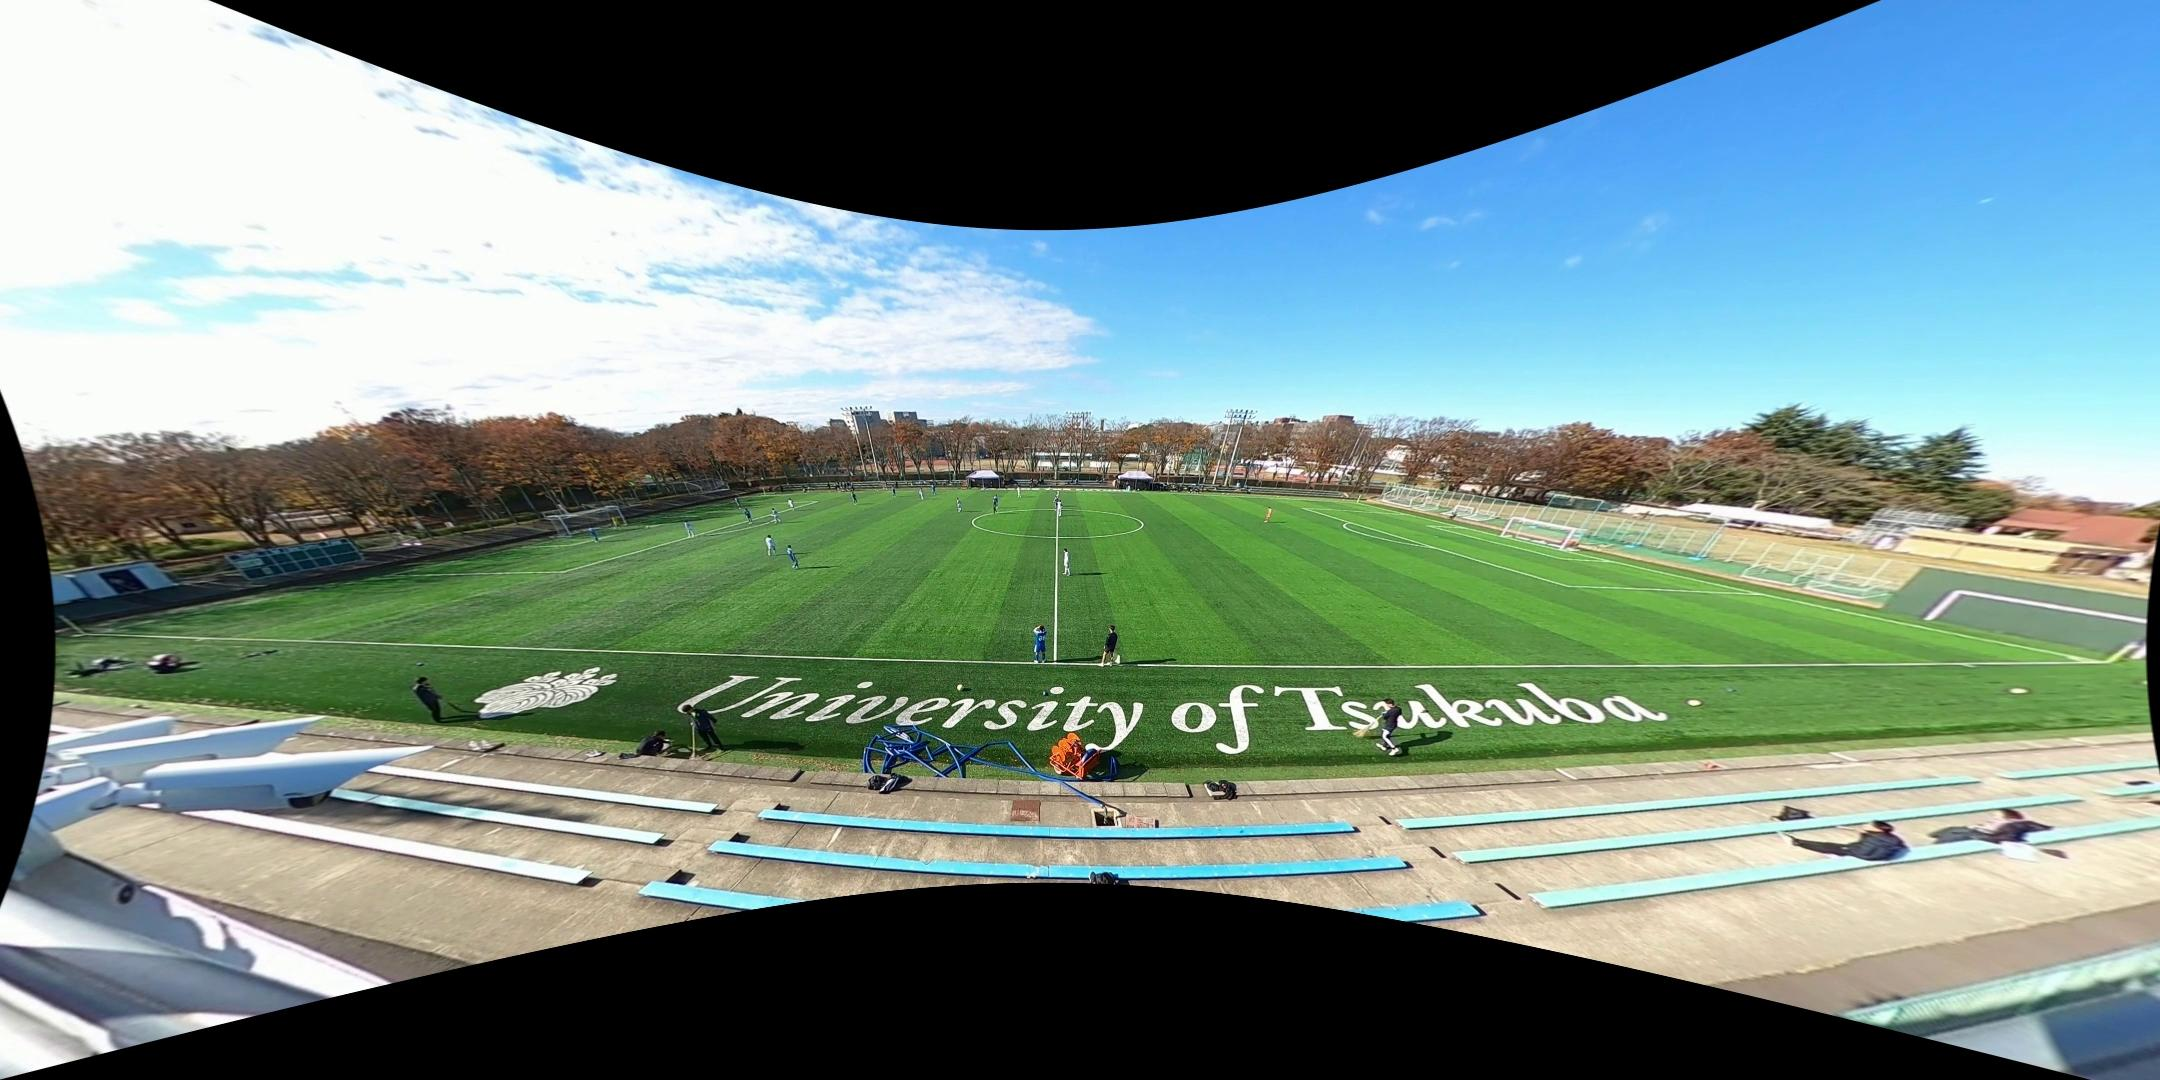person: (1099, 625, 1118, 668), (1033, 626, 1047, 663), (786, 545, 799, 570), (1062, 549, 1072, 577), (764, 535, 777, 556), (684, 520, 697, 540), (611, 515, 625, 532), (588, 525, 600, 543), (771, 508, 782, 524), (1263, 507, 1273, 523), (992, 494, 999, 514), (733, 496, 743, 510), (745, 508, 753, 525), (1053, 495, 1061, 511), (1054, 498, 1062, 514), (787, 498, 796, 512), (849, 491, 858, 505), (1057, 500, 1064, 516), (956, 498, 963, 512), (992, 498, 998, 514), (919, 488, 925, 501), (930, 484, 936, 496), (1017, 486, 1022, 498), (892, 486, 897, 498)
sports ball: (2008, 683, 2031, 697), (1685, 696, 1703, 711), (955, 680, 966, 692), (1418, 705, 1426, 713), (643, 524, 649, 530)
